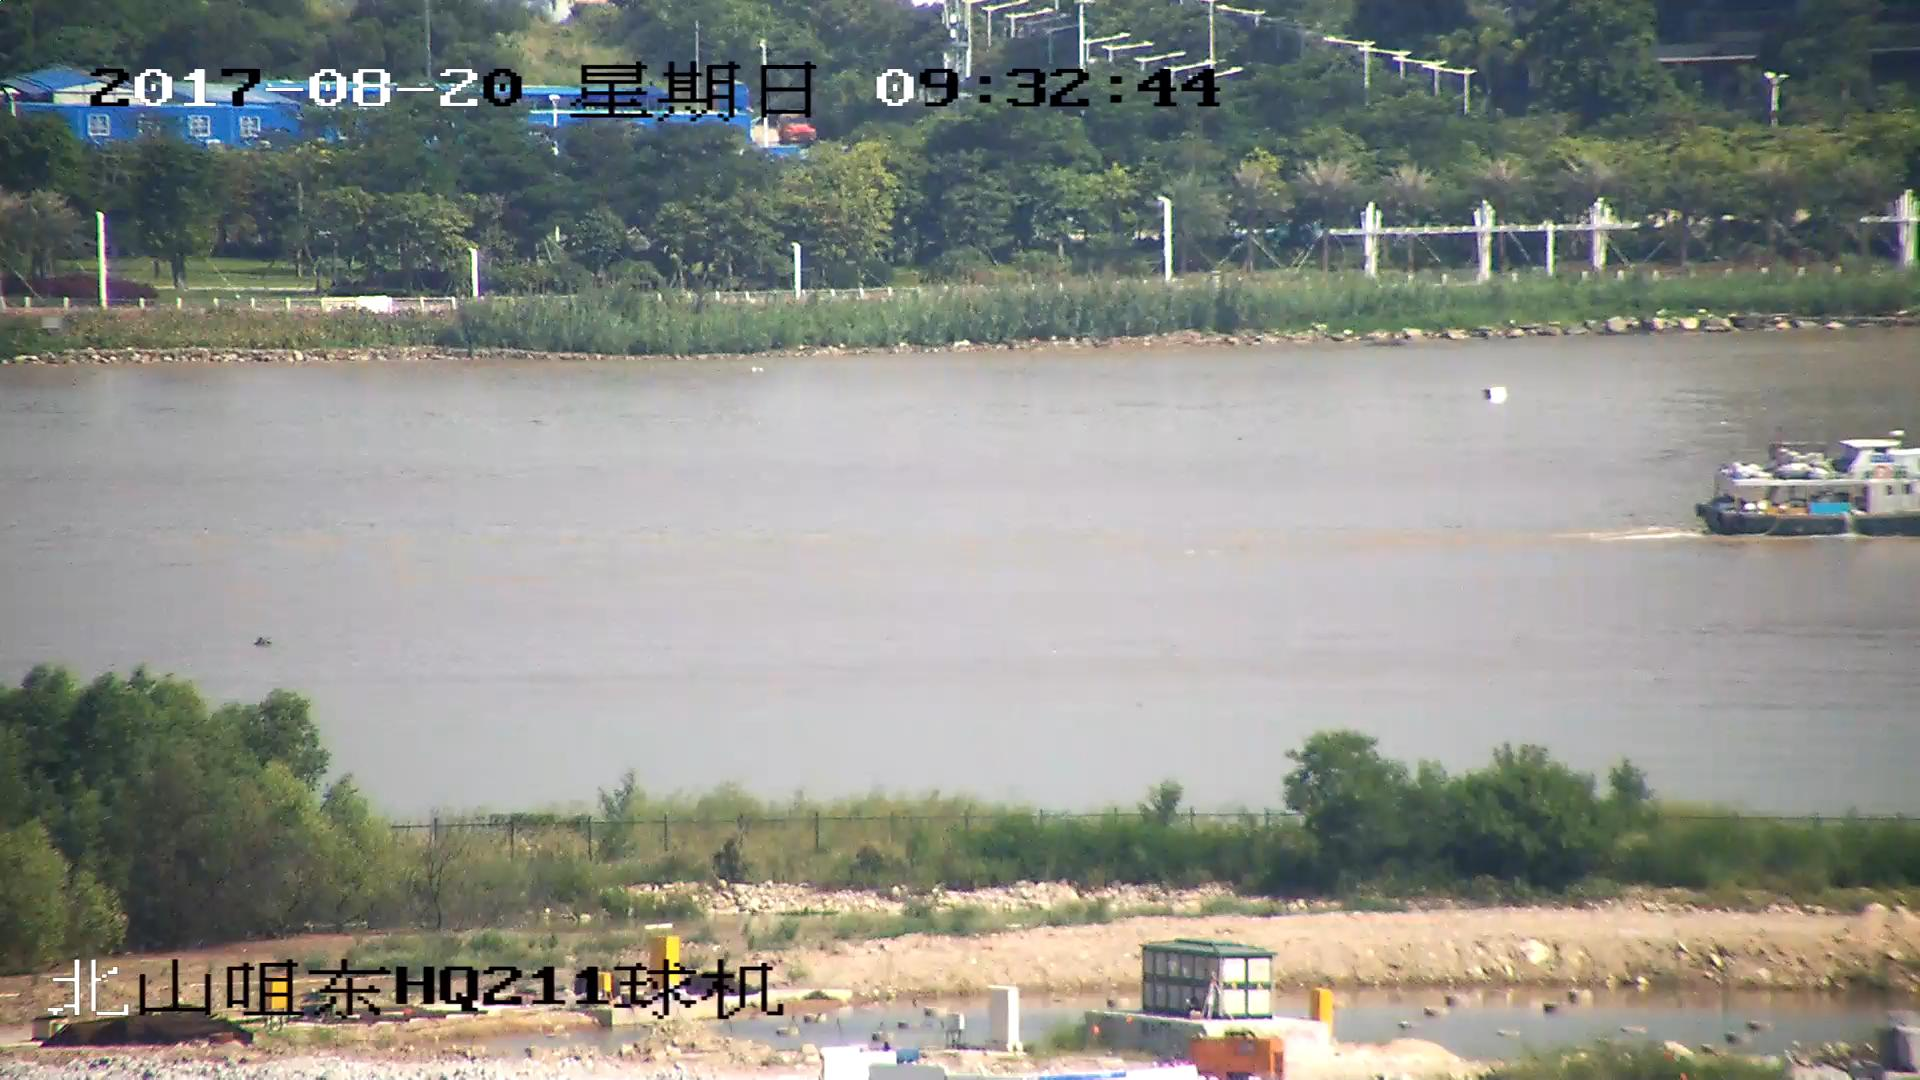fishing boat: (1704, 435, 1920, 539)
